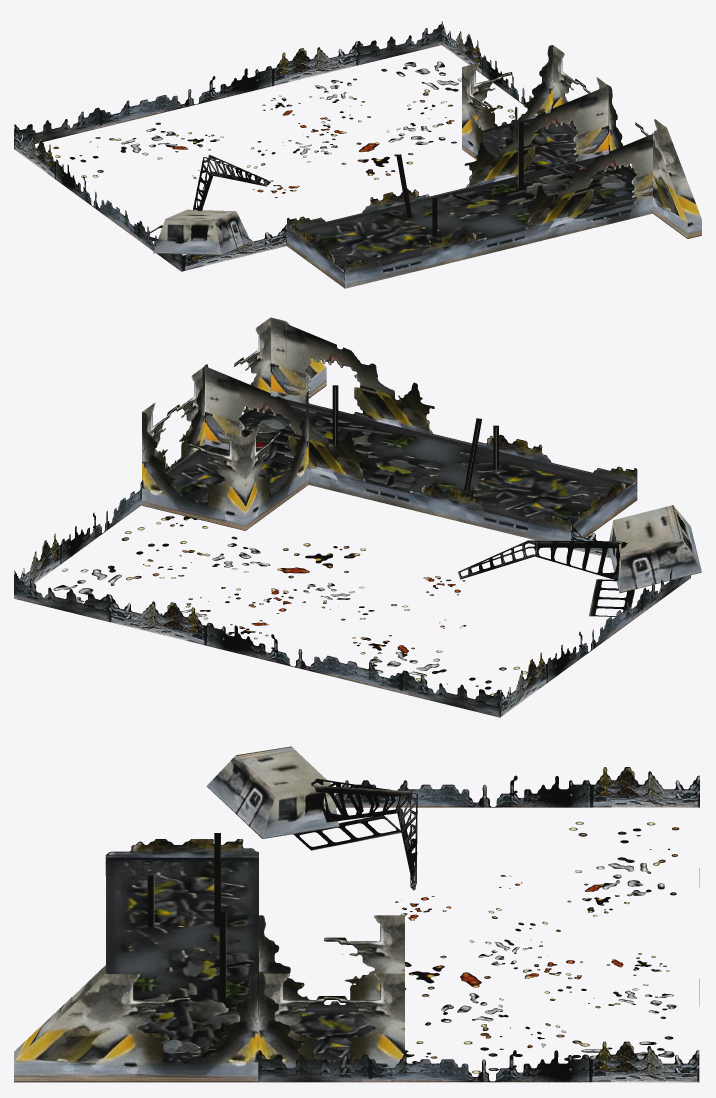
The model's file is weaponsfacility_dam_hdtex.glb.
The picture shows the model from 3 angles, top to bottom: view 1: azimuth 30°, elevation 25°; view 2: azimuth 150°, elevation 25°; view 3: azimuth 270°, elevation 25°; orthographic projection. The views are drawn at different scales.
Parts seen in each view (by area): view 1: WeaponsFacilityDam, objects_PAB; view 2: WeaponsFacilityDam, objects_PAB; view 3: WeaponsFacilityDam, objects_PAB.
Part boxes in pixels (bbox=[...]): WeaponsFacilityDam: bbox=[14, 21, 654, 288]; objects_PAB: bbox=[153, 85, 701, 255]; WeaponsFacilityDam: bbox=[14, 317, 690, 717]; objects_PAB: bbox=[204, 317, 701, 593]; WeaponsFacilityDam: bbox=[105, 767, 699, 1082]; objects_PAB: bbox=[14, 746, 339, 1082].
Size of the model in its own units: 34.63 by 6.2 by 34.95.
1 material, 1 textured.
